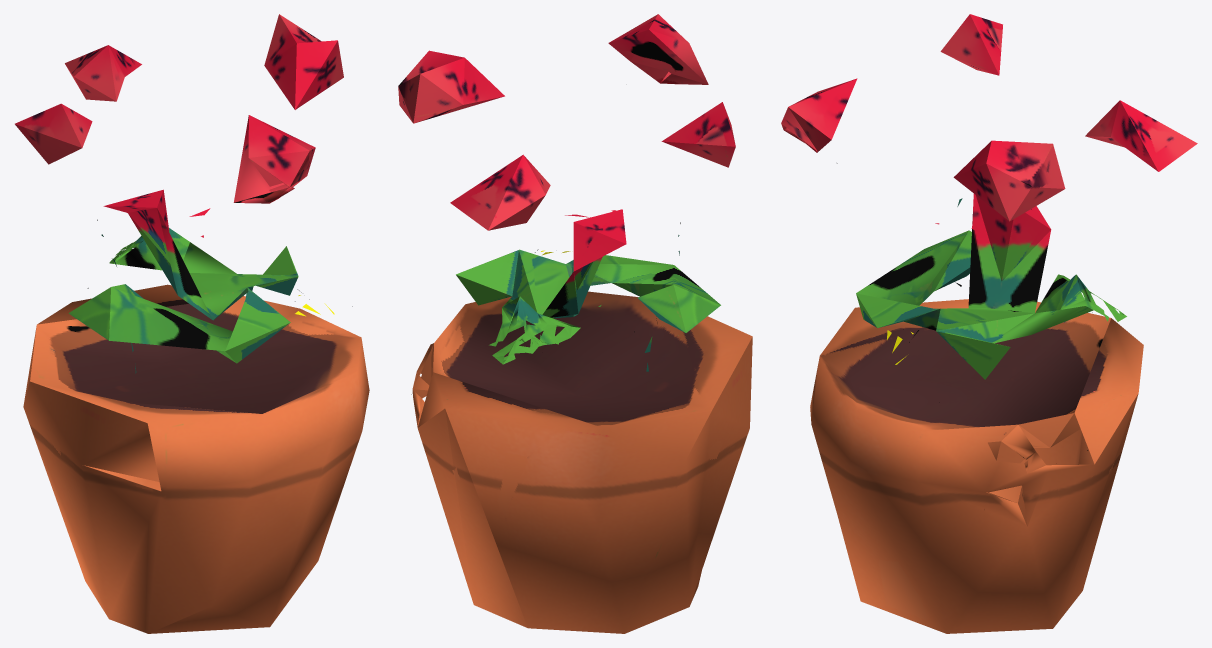
Rendered from cottage-geranium-pot.glb.
3 renders of one model, left to right at view 1: azimuth 30°, elevation 25°; view 2: azimuth 150°, elevation 25°; view 3: azimuth 270°, elevation 25°, orthographic.
Visible parts, largest first — view 1: geometry_0.001; view 2: geometry_0.001; view 3: geometry_0.001.
Boxes of the visible parts, x1=… form: geometry_0.001: x1=15, y1=14, x2=369, y2=633; geometry_0.001: x1=398, y1=14, x2=752, y2=633; geometry_0.001: x1=781, y1=14, x2=1197, y2=633.
Bounding box in the file's own units: 0.6607 × 0.9906 × 0.7261.
Materials: 1 (1 with a texture image).
